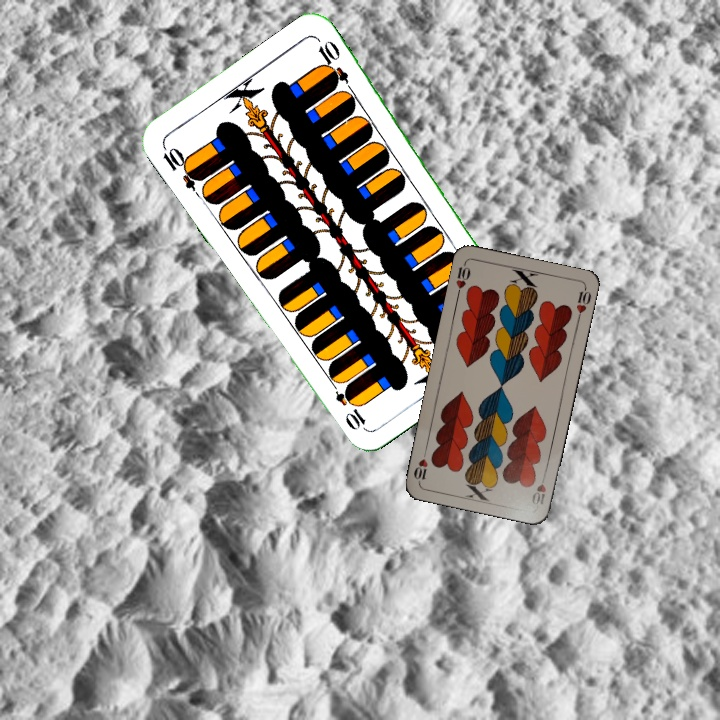E10: (158, 142, 205, 193)
H10: (452, 259, 473, 299), (528, 469, 548, 507)
